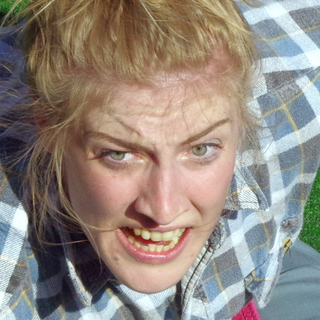eye: (92, 142, 145, 169), (179, 139, 222, 163)
